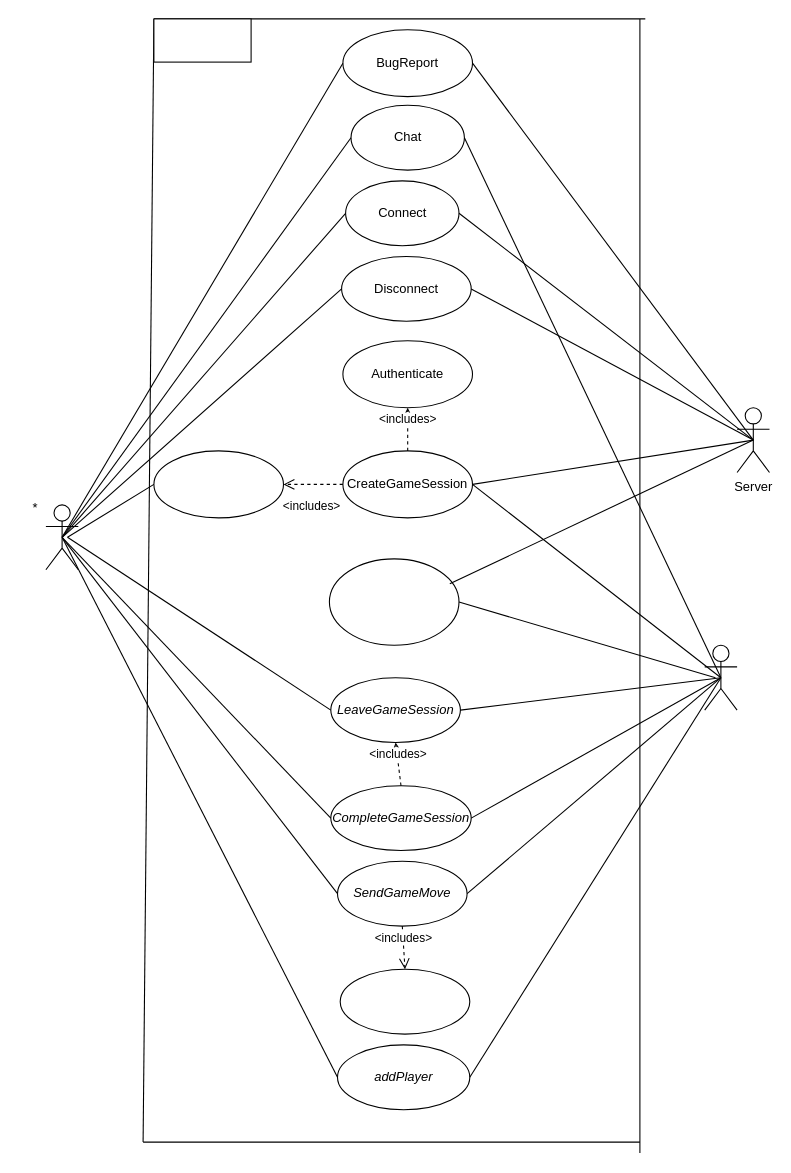
This 791x1173 diagram has some shape labels left out. Each missing label, with the centre of its shape:
Client: point 61,537
ErrorMessage: point 393,601
GameSession: point 720,677
Network: point 202,40
ProcessMove: point 404,1001
receiveGameMove: point 218,484
